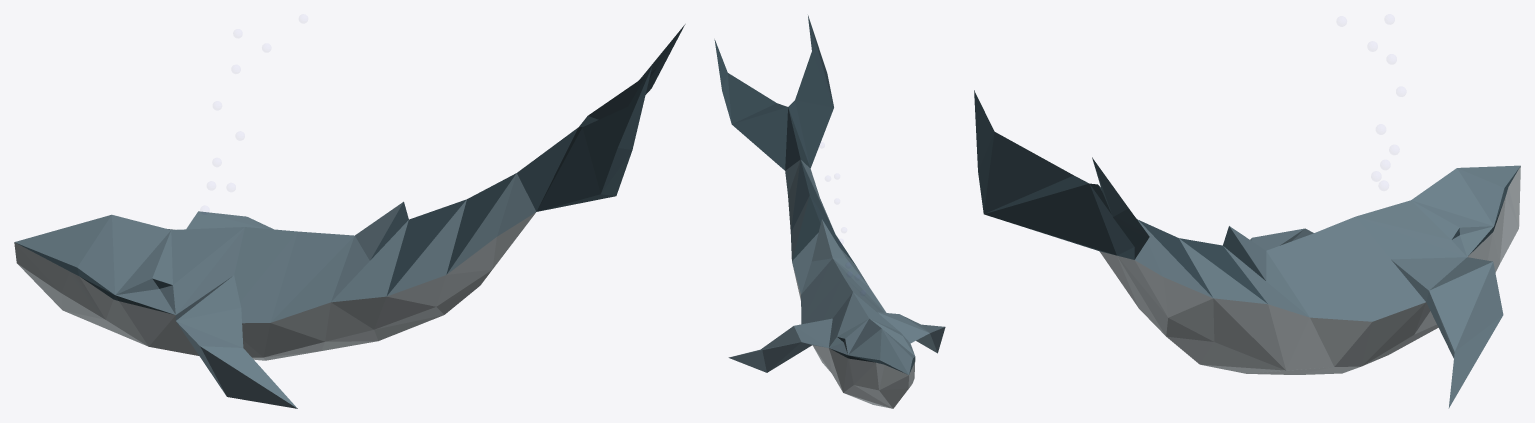
The picture shows the model from 3 angles, left to right: view 1: azimuth 30°, elevation 25°; view 2: azimuth 150°, elevation 25°; view 3: azimuth 270°, elevation 25°; orthographic projection. The views are drawn at different scales.
Visible parts, largest first — view 1: node_MeshObject1855071104-PolyPaper17; view 2: node_MeshObject1855071104-PolyPaper17; view 3: node_MeshObject1855071104-PolyPaper17.
Part boxes in pixels (x1,y1,x2,y2): node_MeshObject1855071104-PolyPaper17: [14, 24, 685, 408]; node_MeshObject1855071104-PolyPaper17: [714, 15, 945, 408]; node_MeshObject1855071104-PolyPaper17: [974, 90, 1520, 408].
Size of the model in its own units: 1.12 by 0.8103 by 0.9876.
